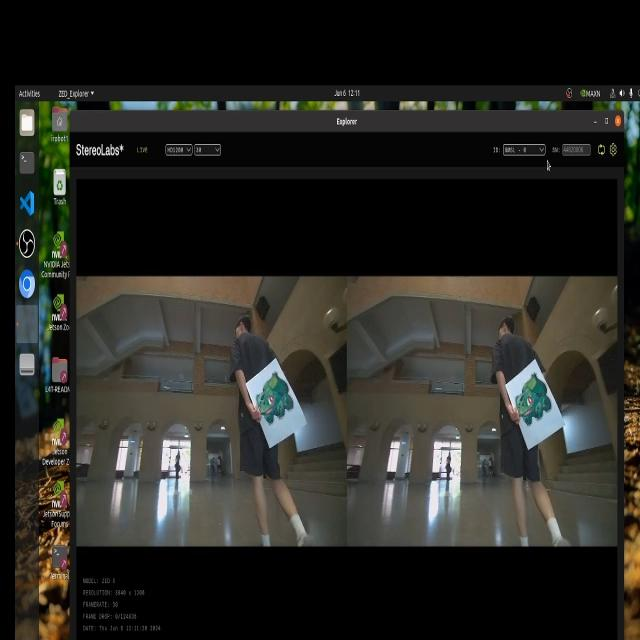green: (505, 371, 554, 422), (256, 361, 294, 426)
